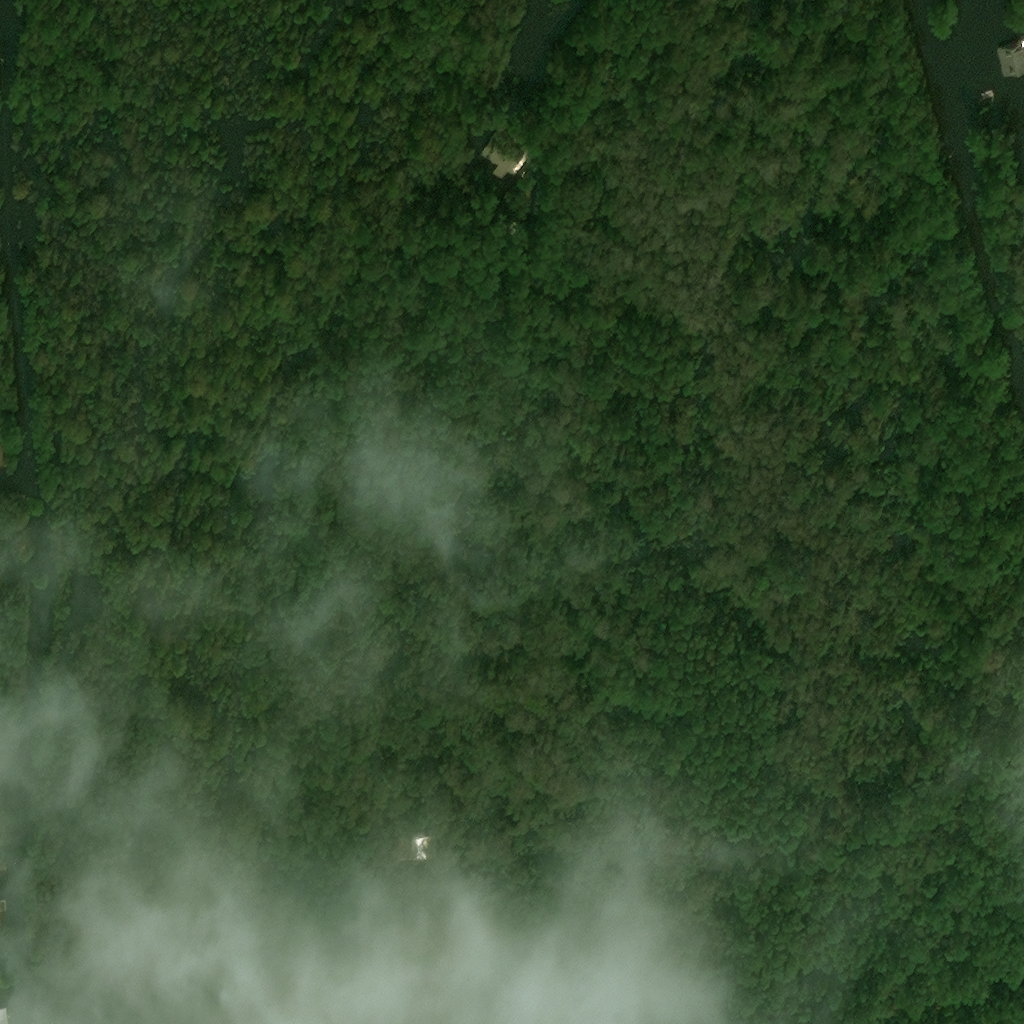major_damage: (476, 123, 534, 179), (996, 38, 1022, 74)
unclassified: (399, 980, 450, 1023), (402, 837, 436, 861)
